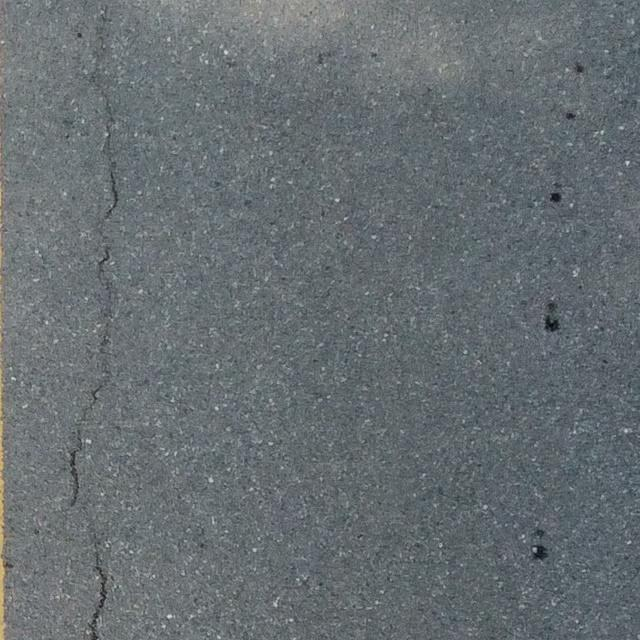LongitudinalCrack: (67, 171, 121, 640)
